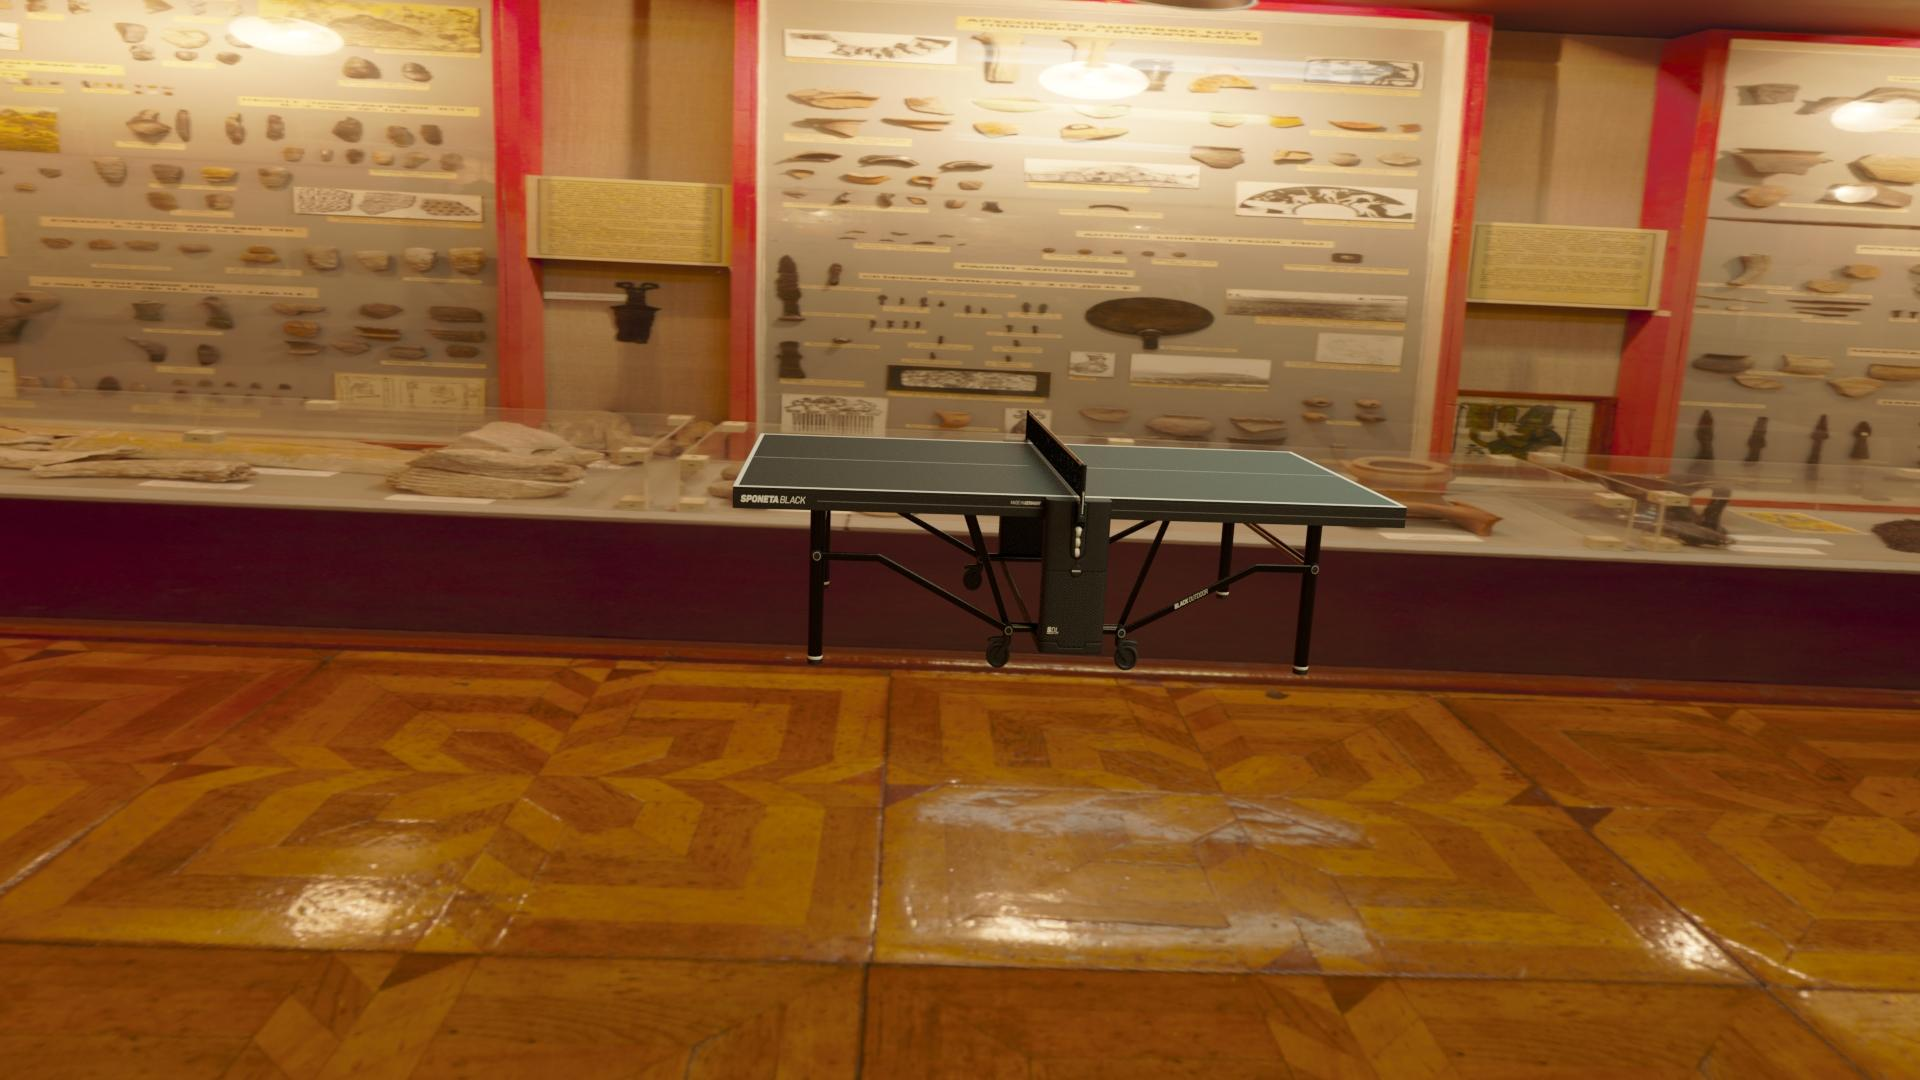table: (738, 434, 1400, 506)
